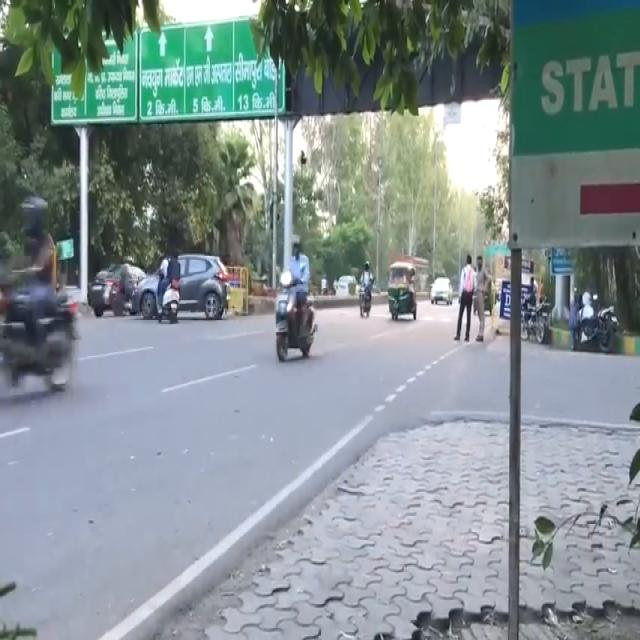MOTORCYCLE: (273, 275, 315, 364), (359, 276, 371, 318)
